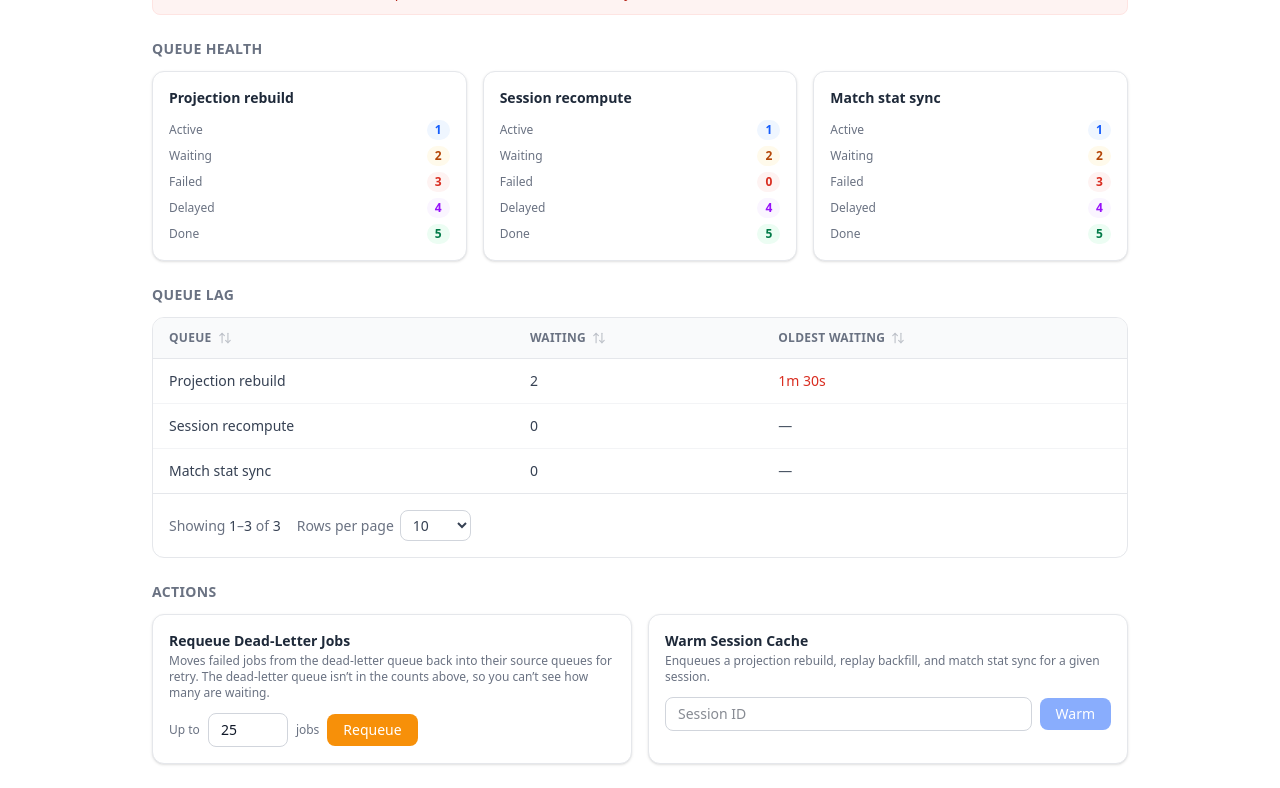
Scenario: QueueDashboard › does not requeue when the confirmation is cancelled
(page scrolled)
What coordinates should you click on to do the following:
click the button "Requeue"
I would click on:
 (373, 730)
Its box is [327,714,418,746].
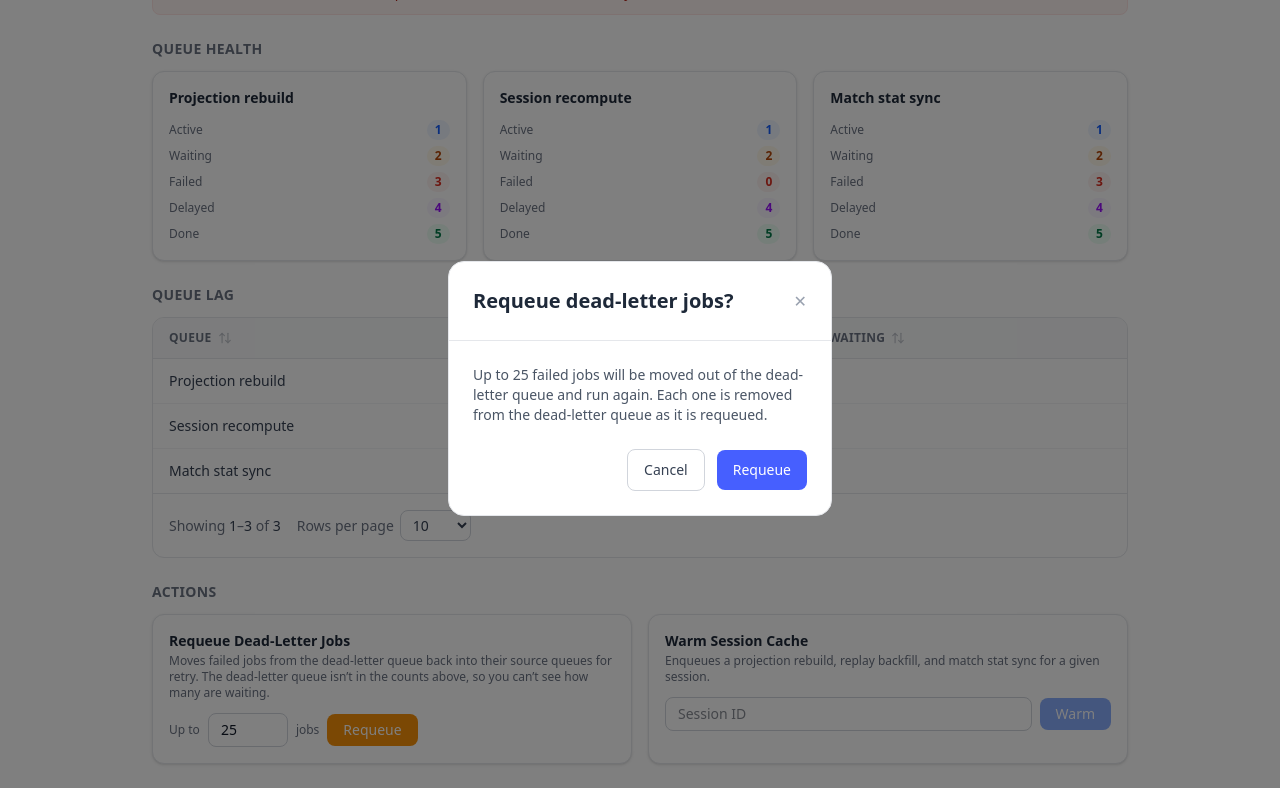
Now the dialog is shown, box [448,260,832,516]
What coordinates should you click on to do the following:
click the button "Cancel"
I would click on:
 (666, 470)
Its box is [627,448,705,490].
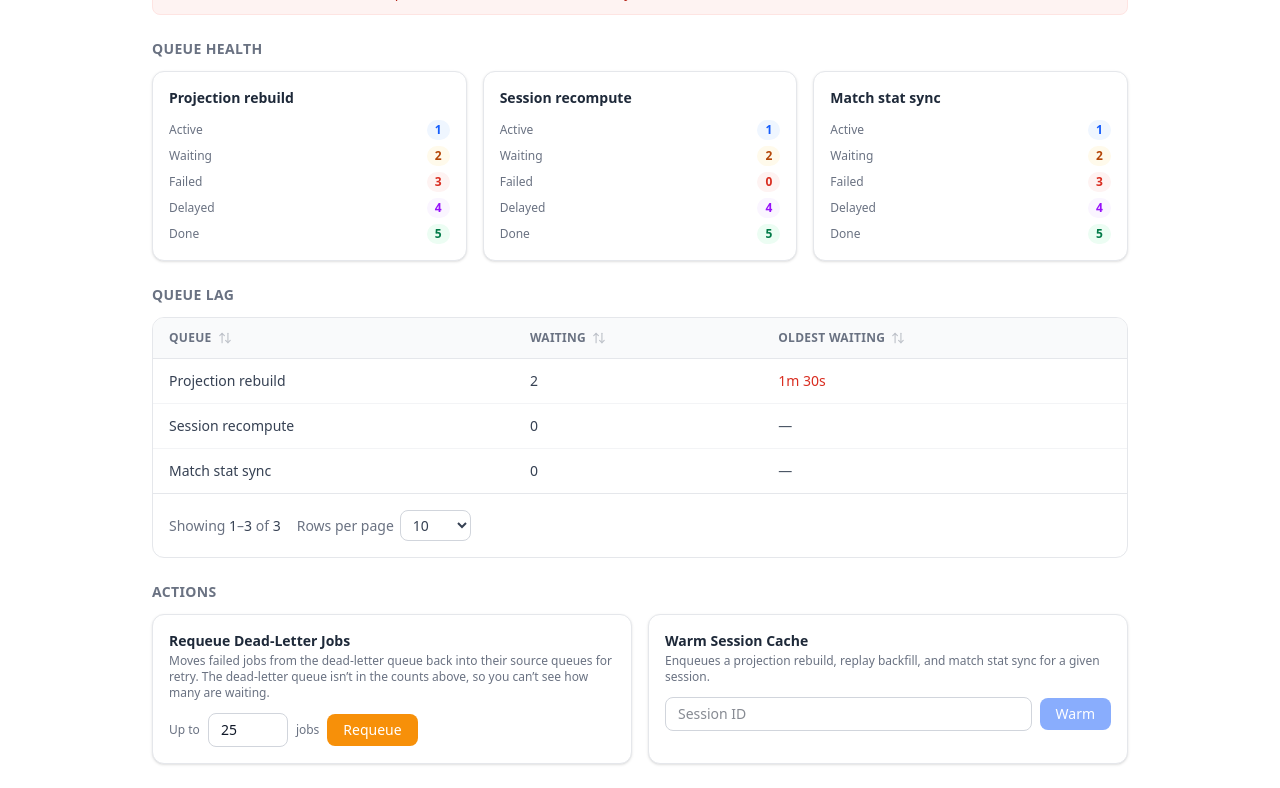
Now the dialog is gone
